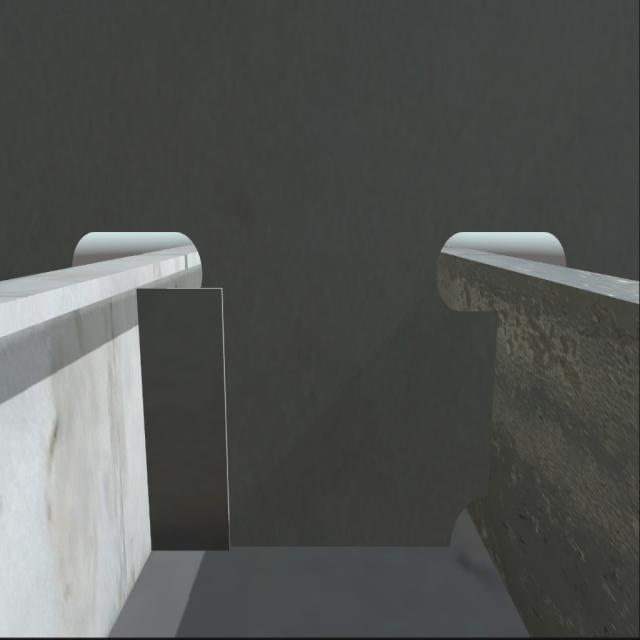fillet_hole: (451, 501, 485, 554)
fillet_yong_jeop_jang: (149, 533, 459, 559)
longi_yong_jeop_jang: (130, 277, 152, 559), (477, 315, 504, 510)
plate_CP01: (150, 284, 222, 560)
